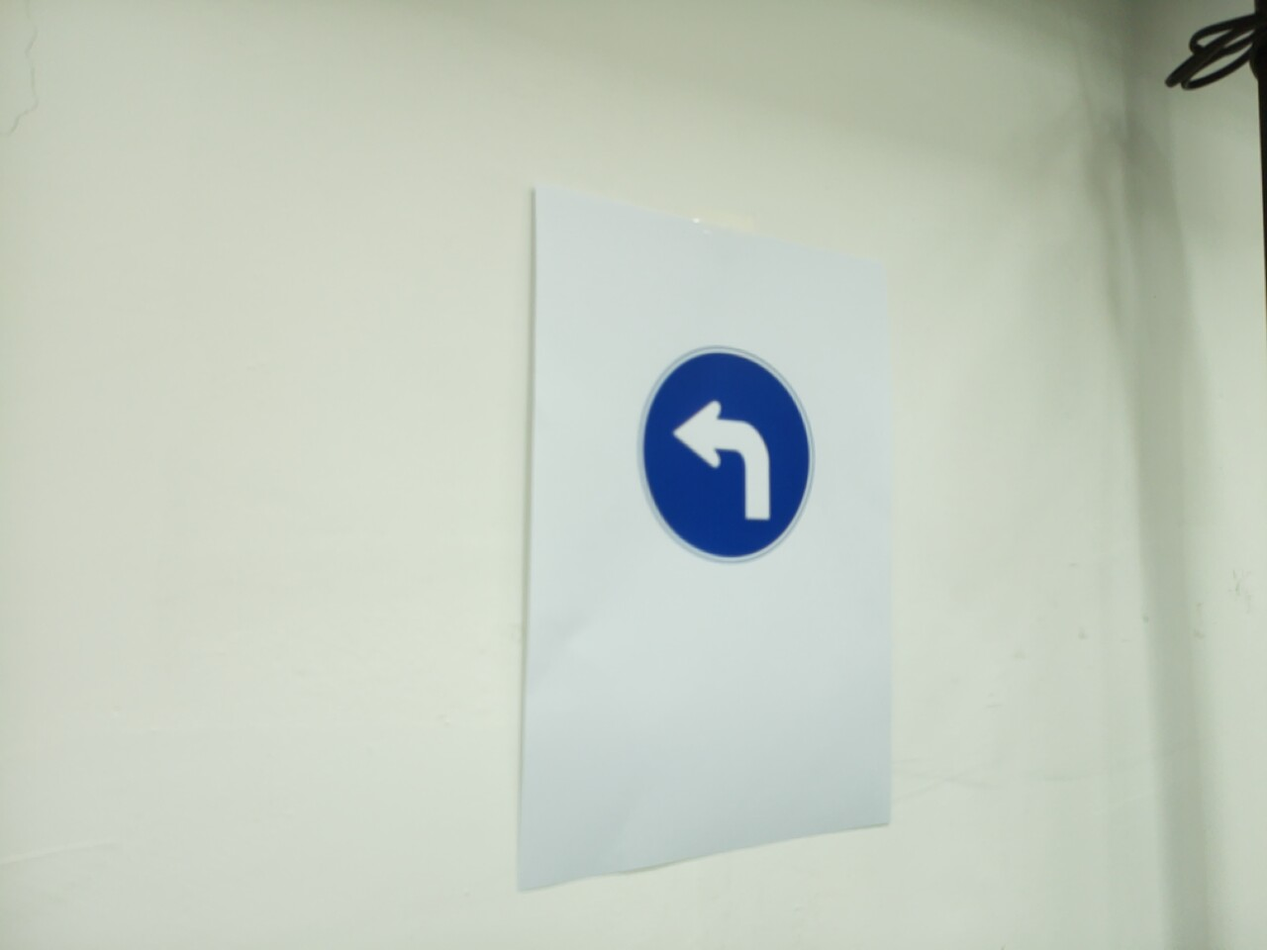left_turn: (636, 344, 817, 565)
